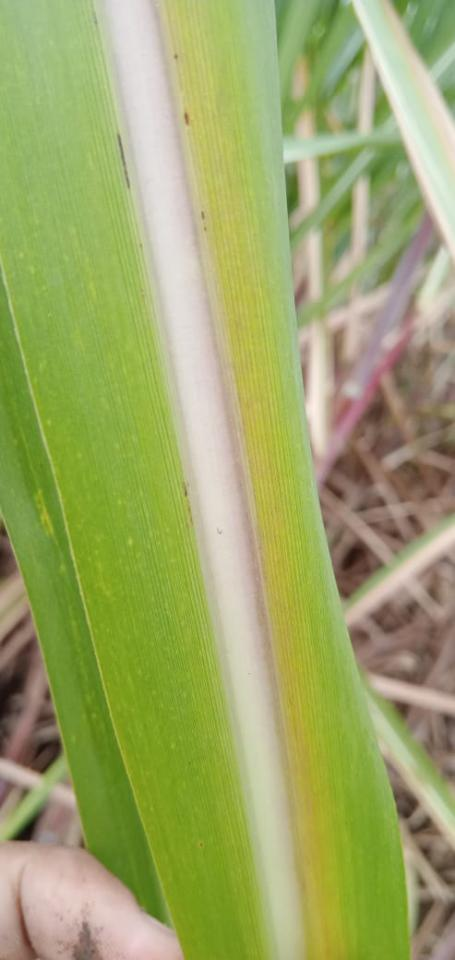Rust: (114, 131, 134, 192), (182, 110, 191, 128), (199, 209, 207, 222), (173, 53, 179, 60), (203, 225, 207, 233)
Yellow: (243, 419, 332, 959)
